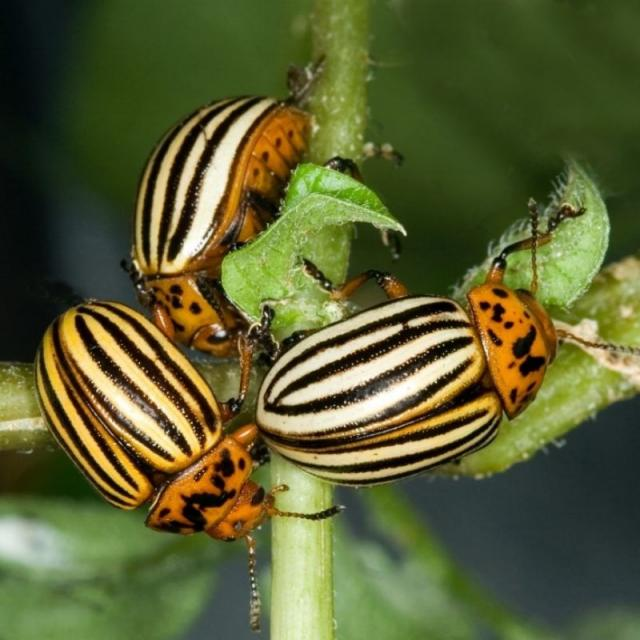ShuCaiHuaBanChong-Grown-: (259, 262, 575, 491), (21, 296, 271, 550), (123, 81, 307, 356)
